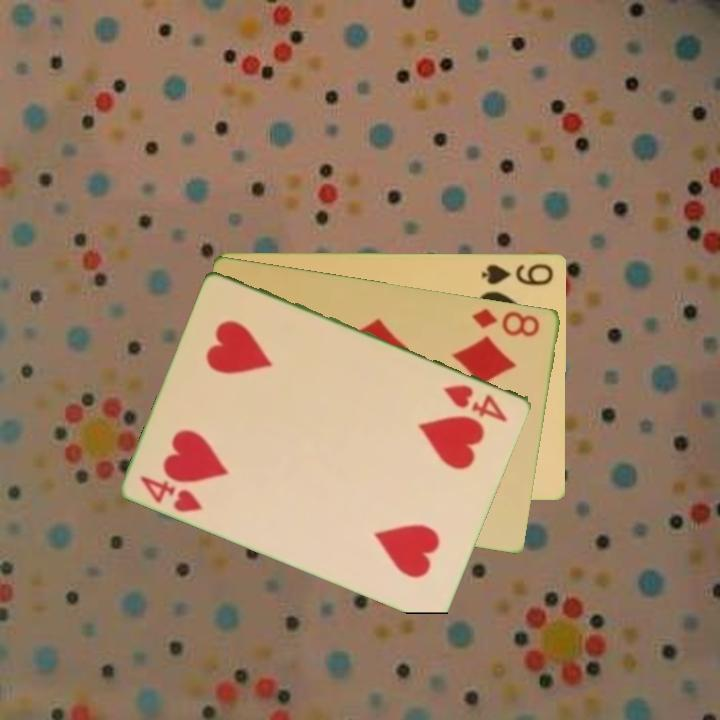4h: (439, 380, 511, 425), (136, 472, 207, 516)
8d: (468, 304, 543, 339)
9s: (479, 259, 557, 288)
